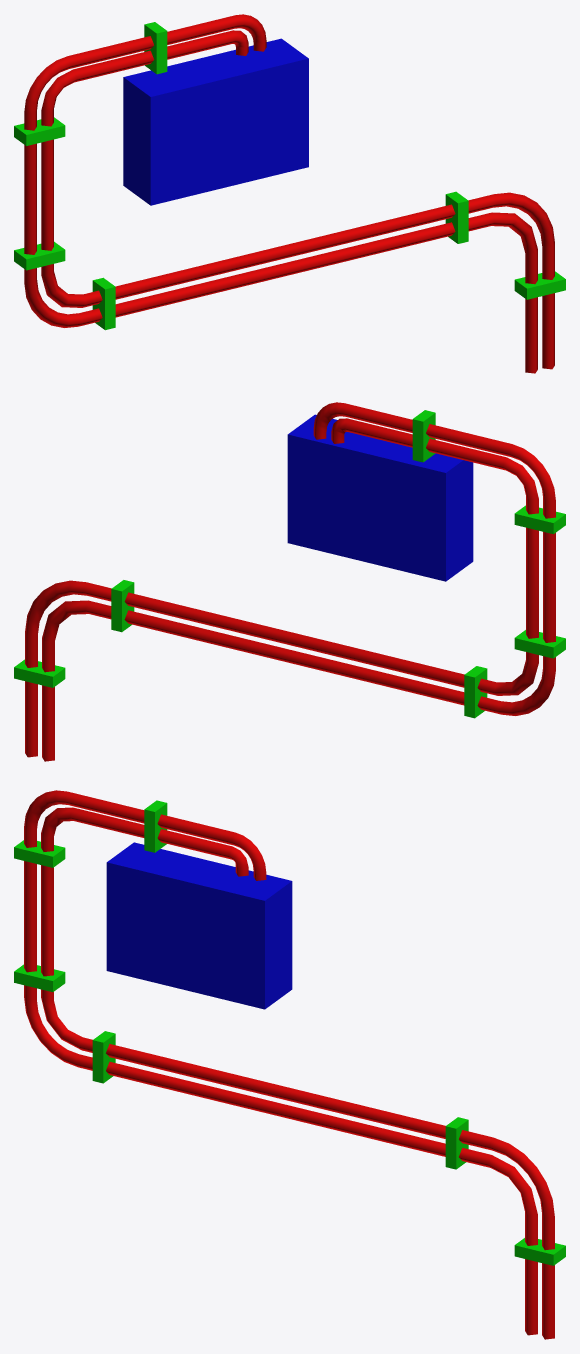
The model's file is FuseBox02.FBX.
3 views of the same model, one above another, from view 1: azimuth 30°, elevation 25°; view 2: azimuth 150°, elevation 25°; view 3: azimuth 330°, elevation 25° (orthographic).
Parts seen in each view (by area): view 1: FuseBox02; view 2: FuseBox02; view 3: FuseBox02.
Boxes of the visible parts, <box> form: FuseBox02: <box>14,14,565,373</box>; FuseBox02: <box>14,402,565,761</box>; FuseBox02: <box>14,790,565,1339</box>.
Size of the model in its own units: 1.69 by 1.3 by 0.1529.
